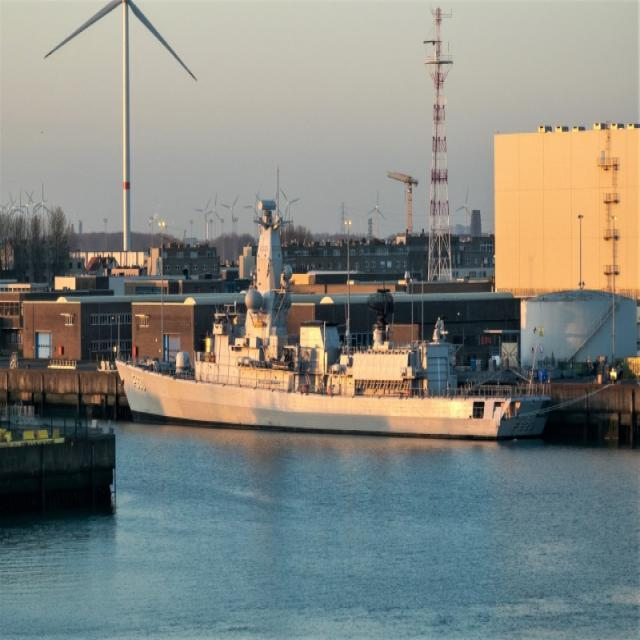Fragata: (109, 197, 553, 449)
